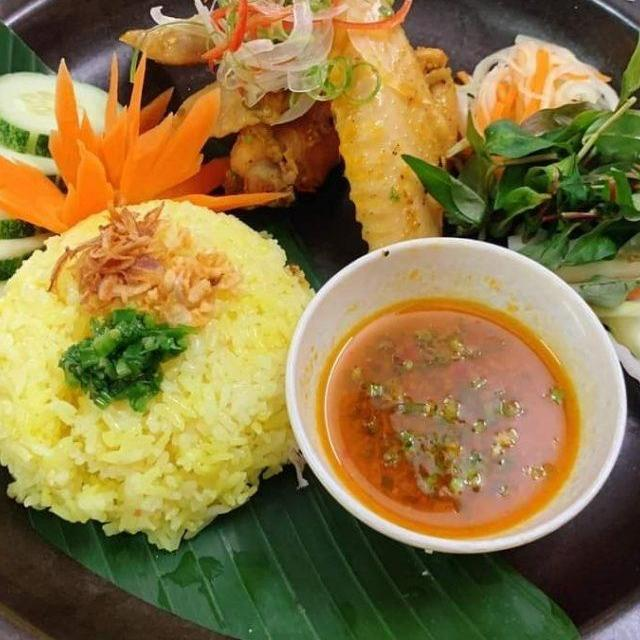com: (0, 195, 334, 558)
com ga: (0, 0, 640, 640)
dua chua: (436, 28, 623, 164), (534, 240, 640, 418)
rau ram: (392, 18, 640, 310)
thit ga: (115, 0, 473, 252)
